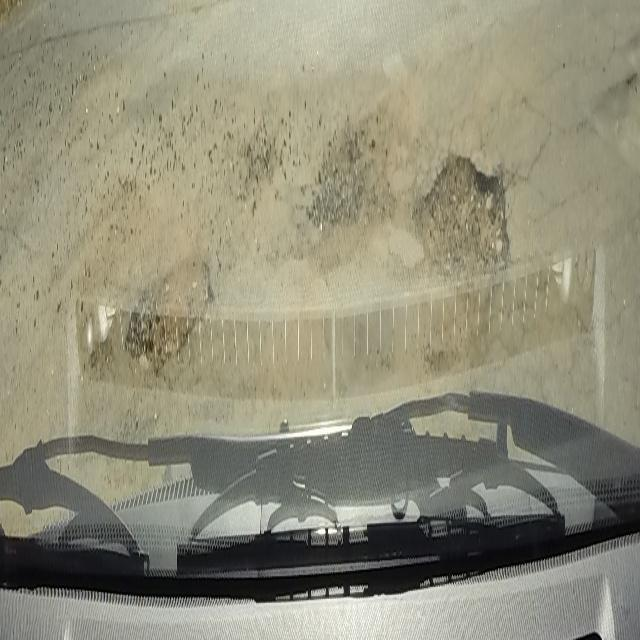pothole: (411, 139, 510, 286), (122, 258, 216, 370), (304, 117, 382, 231)
